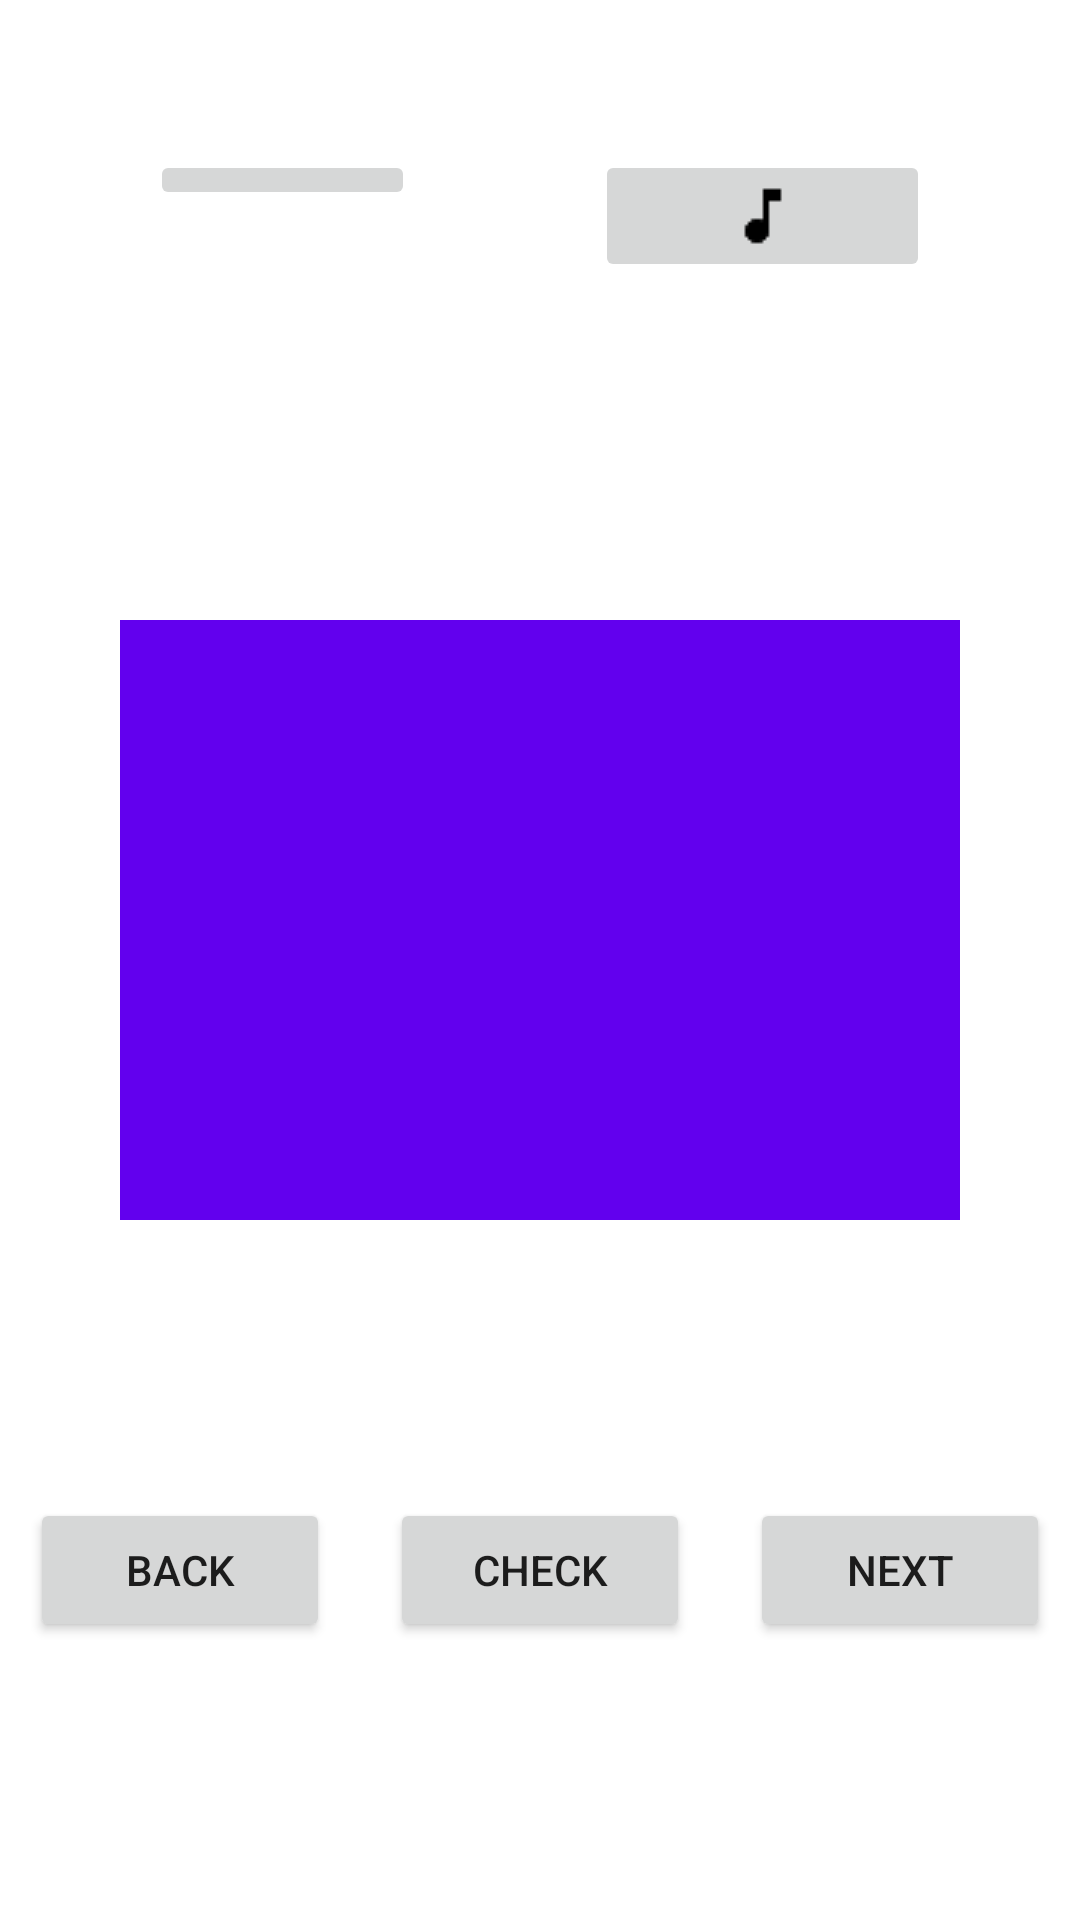

Where to tap for icons on this 1080 × 1920 app screen, as [x,y]:
audio: [762,216]
